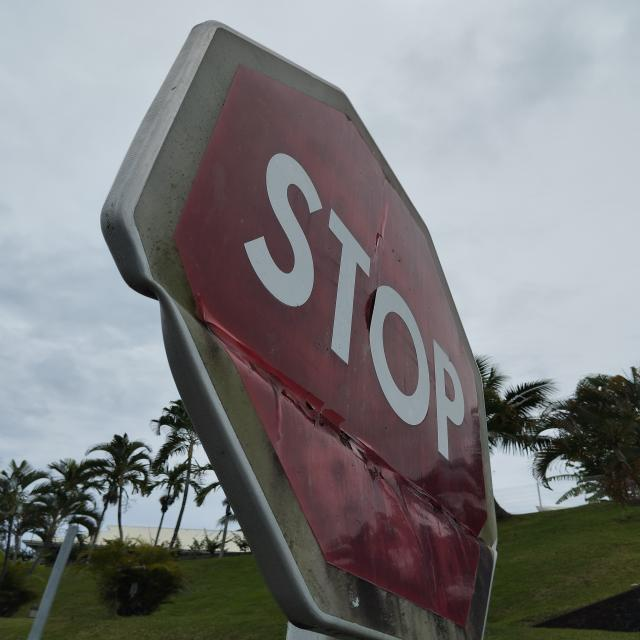Panneau-Stop: (90, 14, 499, 640)
